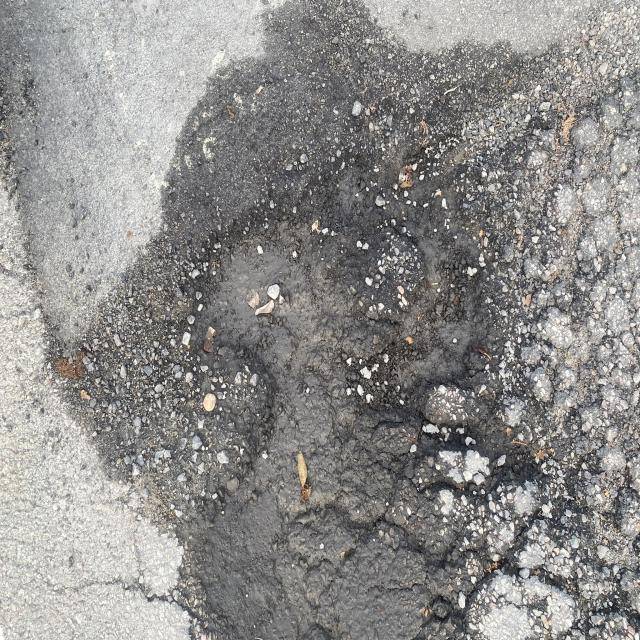Pothole: (165, 408, 495, 638), (191, 130, 411, 376)
